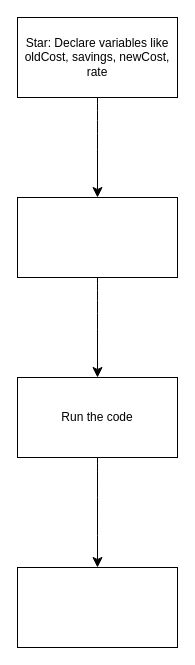
The diagram is 195 pixels wide and 665 high, and some of its shapes have lost their labels. The shapes that lost their labels are listed below. From the top down, each one's box as (x1, y1, x2, y2) in pixels, then its label:
(16, 196, 178, 278): Perform operations like addition, subtraction, multiplication, division
(16, 566, 178, 648): DIsplay the output in console
